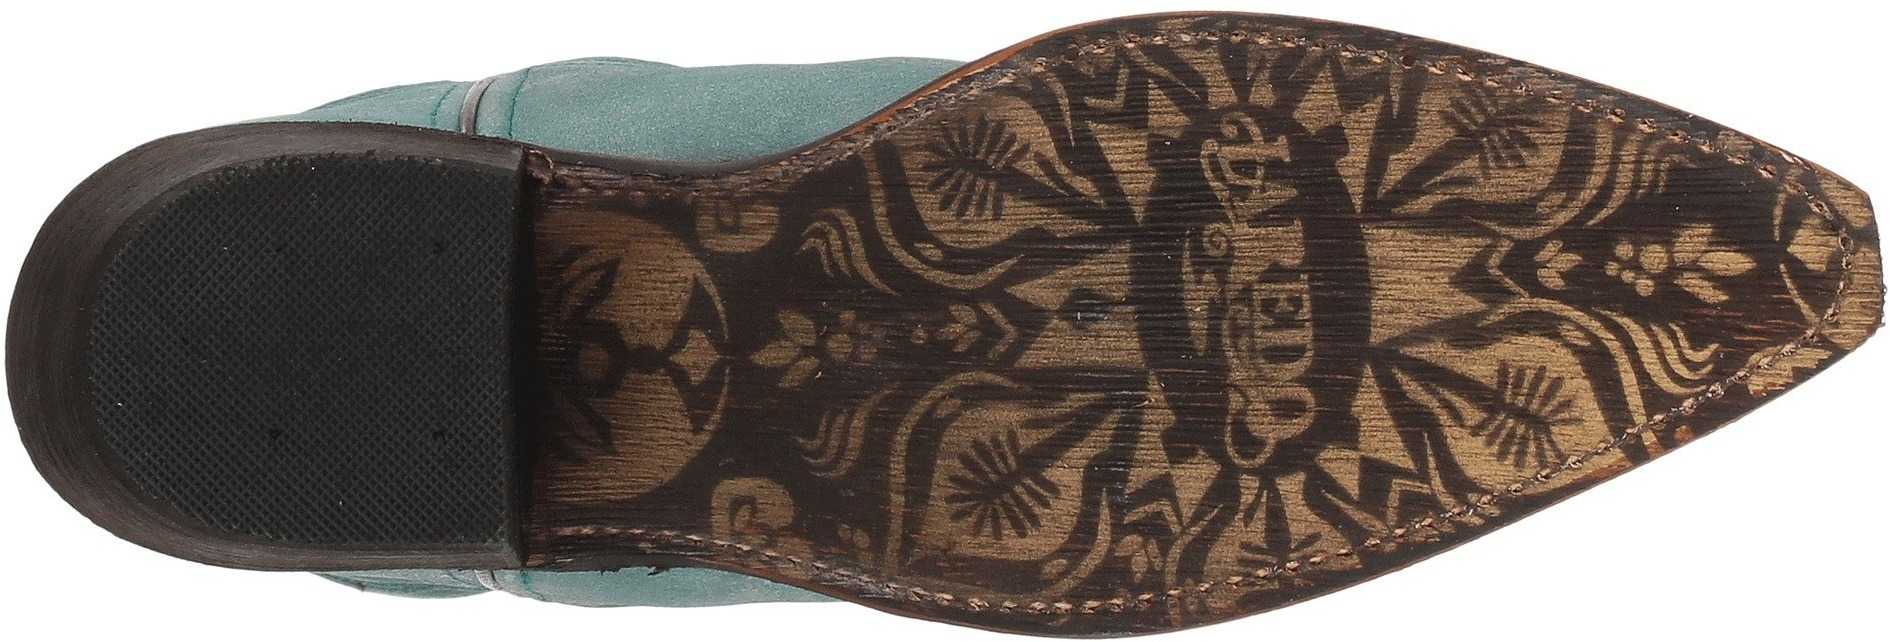circle: (1598, 225, 1674, 305), (417, 417, 464, 459), (253, 422, 292, 457), (421, 231, 454, 267)
line: (1577, 119, 1681, 214)
other: (1354, 124, 1672, 432), (871, 140, 1196, 436), (297, 166, 504, 357), (978, 397, 1182, 588), (297, 360, 497, 548), (100, 273, 293, 464)
ribbon: (1216, 448, 1364, 588)
text: (1228, 278, 1331, 381), (1204, 120, 1305, 217)
